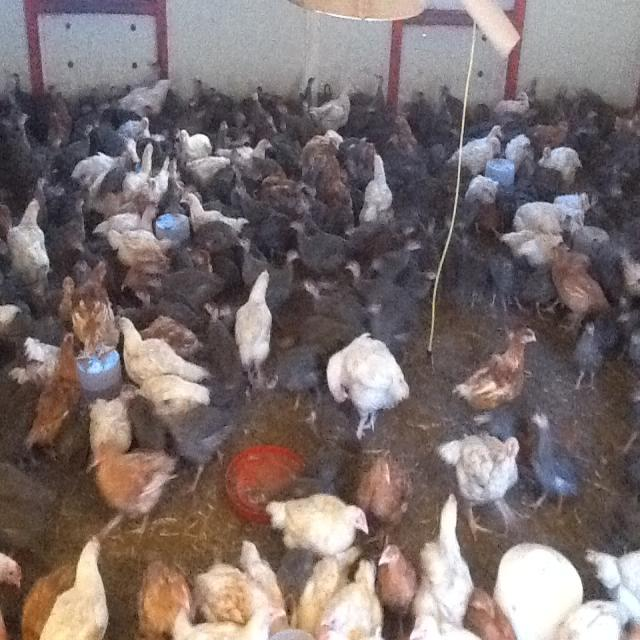poussin: (314, 333, 412, 443), (85, 438, 183, 526), (38, 535, 111, 640), (460, 327, 550, 412), (21, 330, 83, 450), (419, 492, 471, 625), (116, 318, 214, 388), (164, 404, 236, 499), (442, 434, 524, 514), (196, 547, 276, 627), (267, 498, 375, 556), (530, 398, 578, 522), (227, 269, 281, 378), (545, 244, 606, 334), (120, 566, 189, 640), (256, 342, 322, 412), (326, 559, 382, 640), (71, 281, 118, 376), (587, 544, 640, 625), (170, 604, 288, 640), (556, 589, 638, 640), (369, 147, 436, 209), (363, 442, 409, 532), (6, 198, 52, 288), (480, 240, 526, 328), (88, 386, 137, 468), (134, 312, 211, 364), (20, 560, 70, 640), (376, 534, 416, 632), (360, 292, 418, 357), (338, 259, 414, 307), (303, 558, 347, 638), (182, 187, 247, 240), (506, 218, 568, 270), (438, 120, 501, 170), (467, 585, 522, 640), (150, 268, 224, 308), (300, 401, 354, 454), (14, 331, 64, 388), (514, 192, 584, 232), (308, 437, 353, 498), (138, 378, 210, 416), (289, 226, 348, 272), (125, 390, 170, 450), (452, 216, 484, 300), (582, 76, 640, 122), (188, 193, 242, 241), (69, 146, 115, 202), (56, 262, 108, 311), (298, 313, 360, 354), (119, 78, 173, 125), (593, 158, 640, 212), (38, 264, 76, 330), (6, 105, 39, 181), (82, 76, 118, 144), (115, 228, 179, 266), (0, 547, 26, 640), (296, 129, 344, 179), (316, 164, 352, 230), (102, 208, 161, 248), (38, 80, 76, 142), (362, 154, 396, 223), (53, 199, 91, 260), (120, 251, 168, 299), (59, 116, 100, 172), (405, 195, 443, 254), (553, 207, 609, 247), (604, 301, 640, 363), (119, 141, 156, 201), (537, 140, 587, 183), (541, 70, 576, 130), (248, 204, 290, 254), (196, 215, 241, 261), (312, 84, 356, 130), (263, 172, 317, 207), (270, 251, 302, 307), (468, 171, 501, 225), (578, 320, 602, 394), (522, 270, 556, 322), (28, 175, 75, 212), (187, 144, 232, 182), (388, 104, 418, 156), (542, 186, 592, 217), (2, 70, 33, 120), (523, 68, 551, 121), (375, 238, 424, 268), (146, 156, 172, 212), (272, 101, 310, 139), (532, 118, 570, 156), (184, 98, 219, 139), (212, 148, 240, 198), (607, 102, 640, 144), (233, 230, 264, 274), (234, 182, 268, 222), (618, 248, 640, 308), (168, 130, 209, 162), (289, 195, 322, 233), (247, 92, 280, 130), (511, 128, 538, 174), (491, 93, 531, 124), (366, 74, 390, 125), (162, 158, 183, 214), (438, 88, 469, 124), (412, 268, 438, 310), (186, 70, 206, 121), (206, 83, 236, 116), (210, 112, 236, 146), (242, 130, 266, 162), (296, 72, 316, 110), (580, 104, 600, 142), (415, 86, 430, 135), (476, 98, 492, 134), (630, 326, 640, 376), (0, 302, 17, 330)
